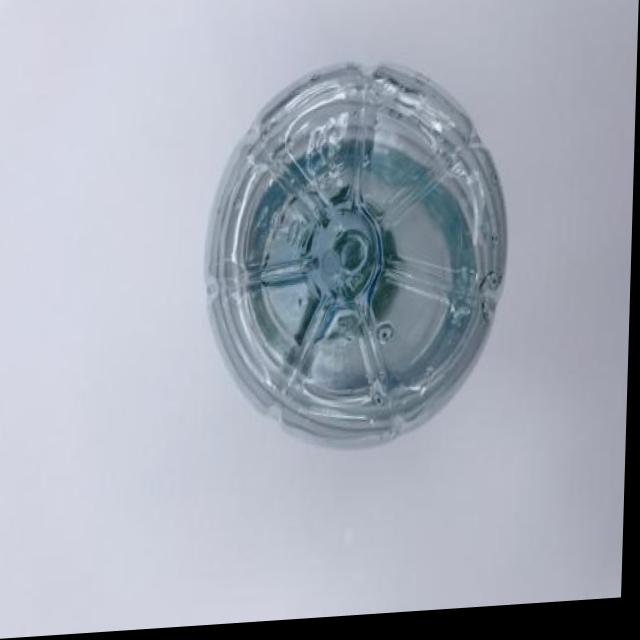plastic: (187, 43, 527, 498)
